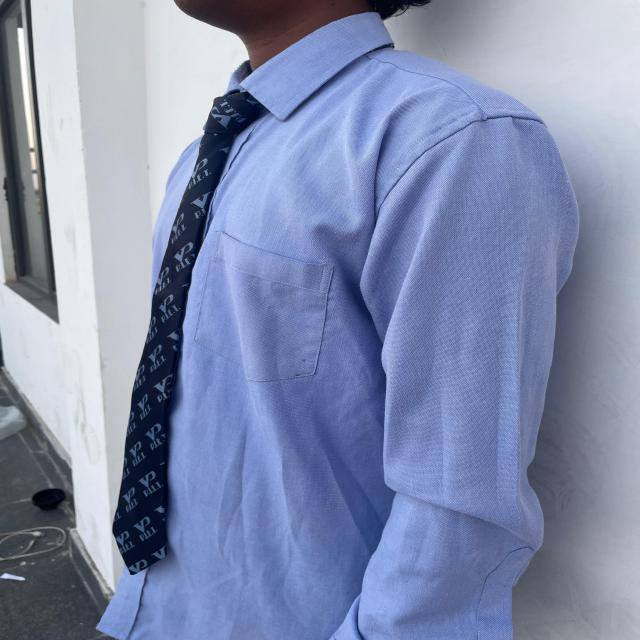Tie: (111, 70, 264, 575)
uniform: (96, 12, 580, 639)
